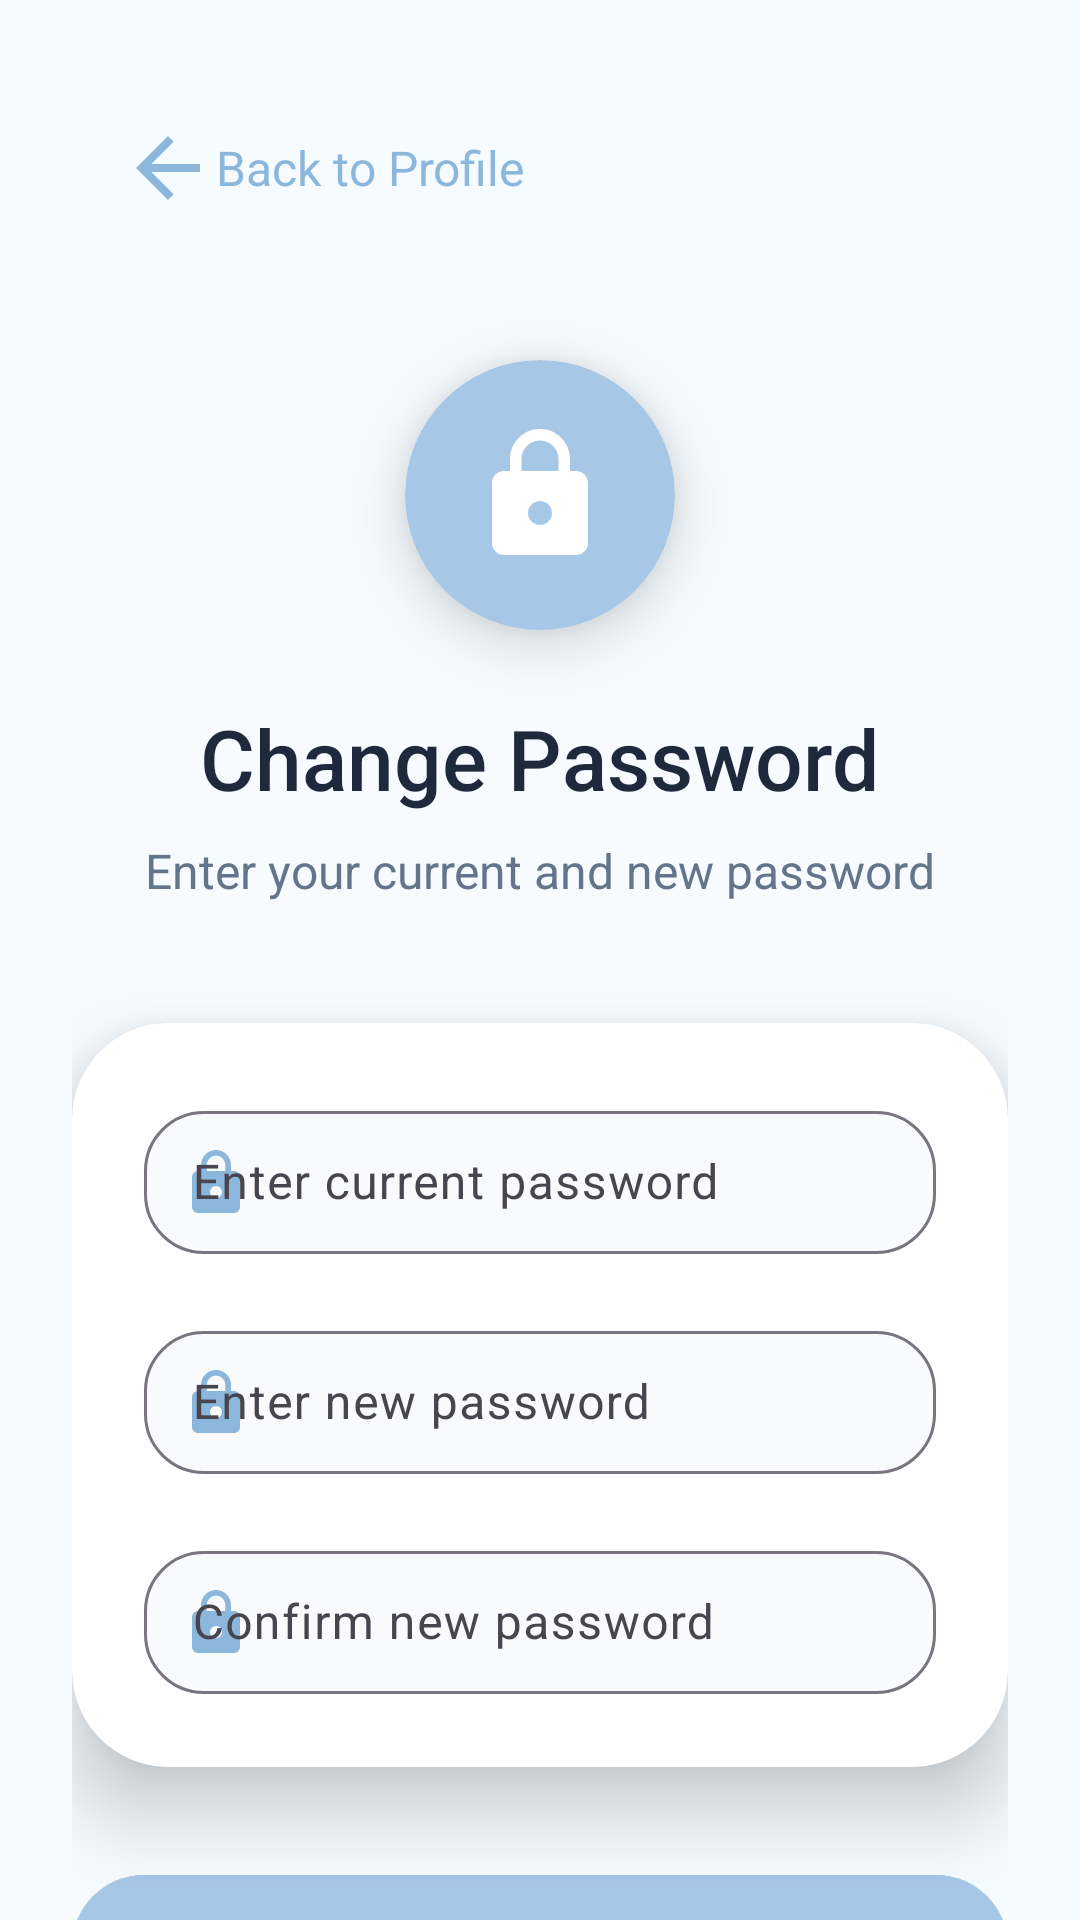

Where to tap for icons on this 1080w x 1920h app screen, as (x,y):
arrow back: (168,168)
lock: (540,492)
